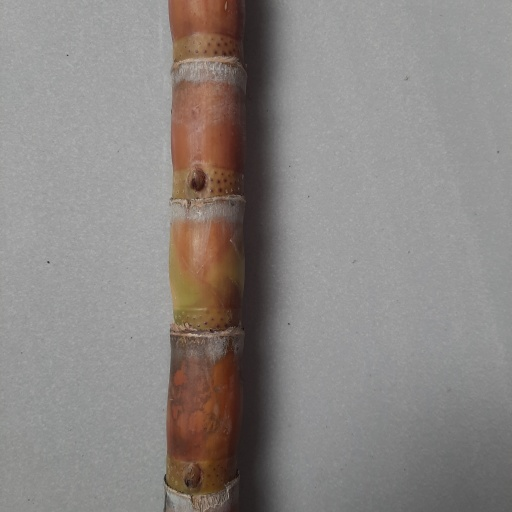Bud: (181, 461, 204, 493), (187, 166, 208, 192)
